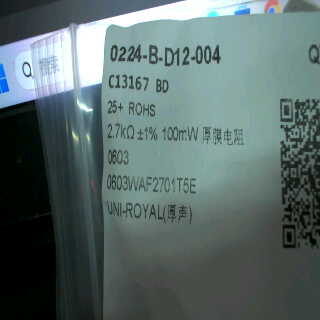2.7kR: (107, 121, 133, 143)
